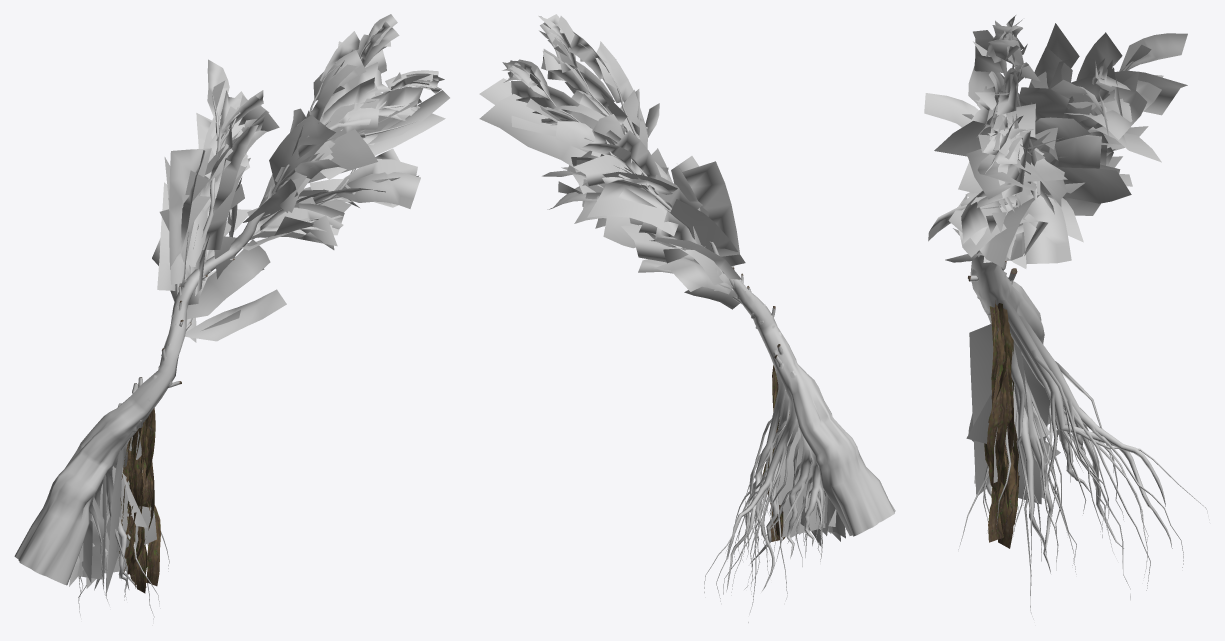
The model's file is Tree_05_1_L1.fbx.
The picture shows the model from 3 angles, left to right: view 1: azimuth 30°, elevation 25°; view 2: azimuth 150°, elevation 25°; view 3: azimuth 270°, elevation 25°; orthographic projection. The views are drawn at different scales.
Parts seen in each view (by area): view 1: polySurface259; view 2: polySurface259; view 3: polySurface259.
Boxes of the visible parts, x1,y1,x2,y2 form: polySurface259: (14, 14, 449, 619); polySurface259: (479, 14, 895, 622); polySurface259: (924, 15, 1209, 619).
Size of the model in its own units: 1076 by 1332 by 459.
